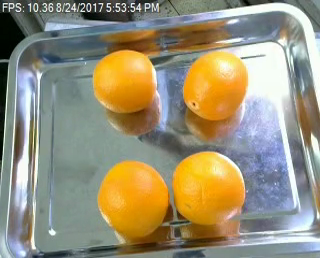Orange: (96, 159, 168, 238), (172, 149, 245, 224), (182, 50, 248, 119), (91, 48, 156, 113)
